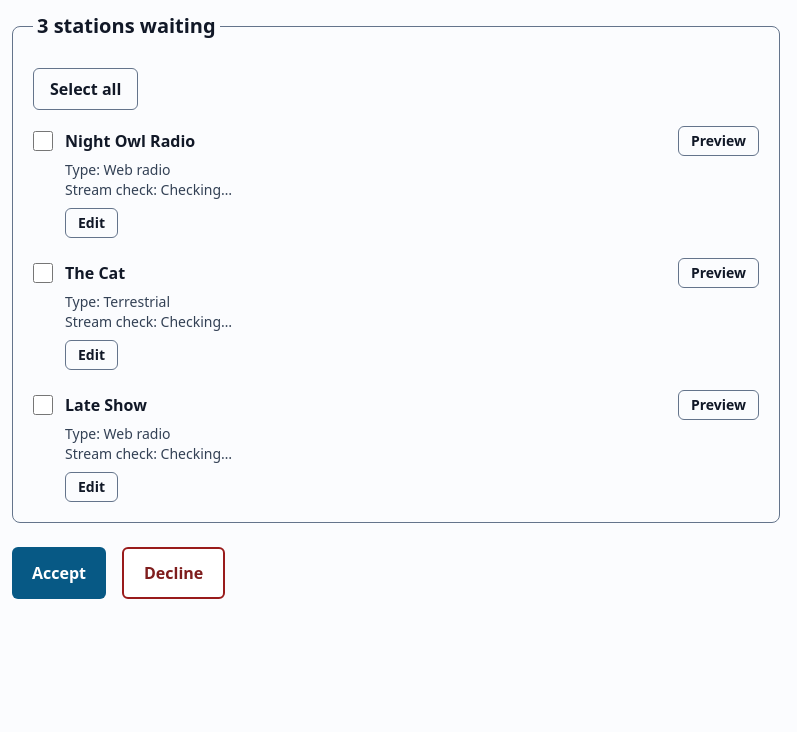
Test: Cancel closes the form and returns to Edit
Click the button "Edit" below "Terrestrial": (92, 355) [65,340,118,370]
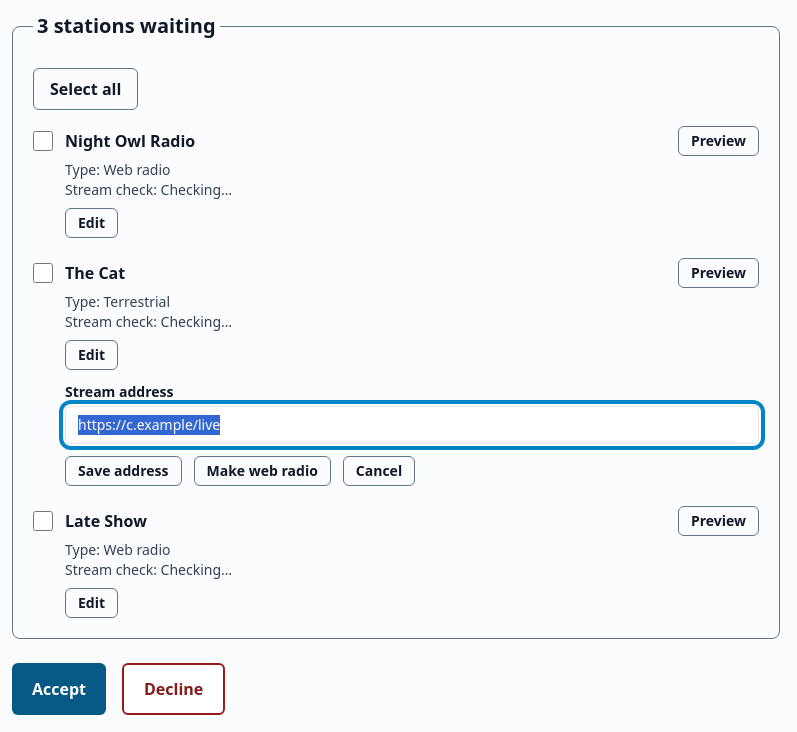
Click the button "Cancel": (379, 471) [343,456,415,486]
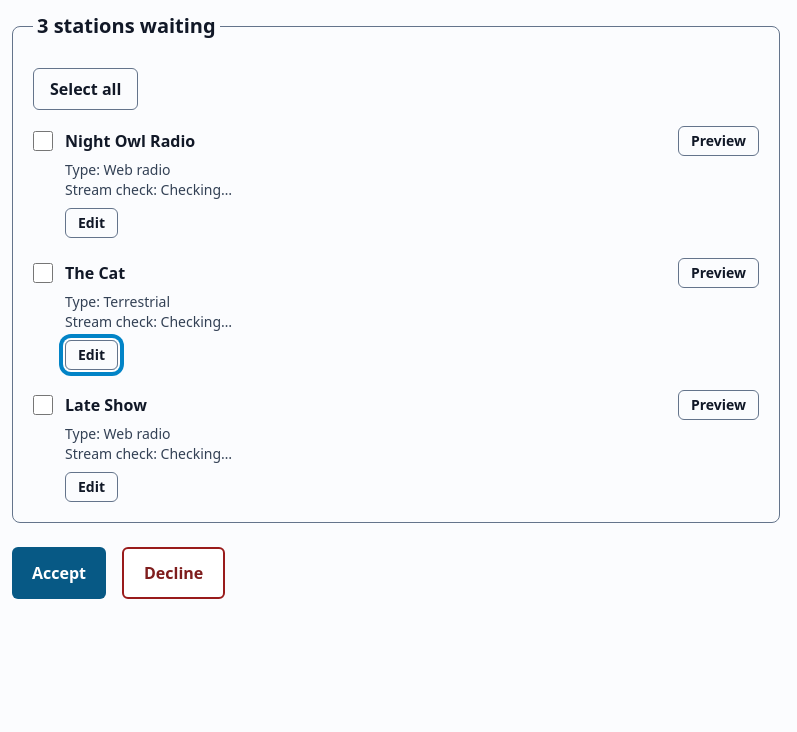
Expected: the label "Stream address" is gone
